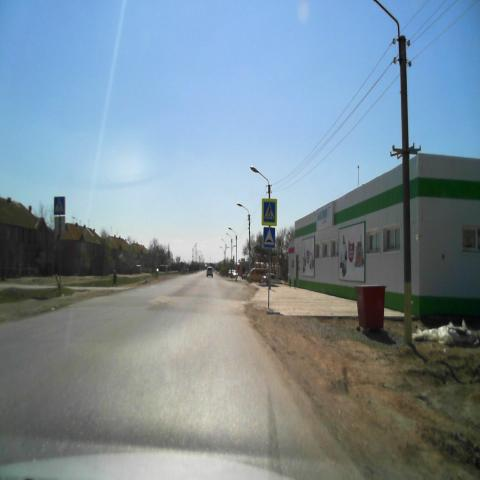5_19_1: (261, 198, 278, 226)
5_20: (264, 227, 275, 248)
